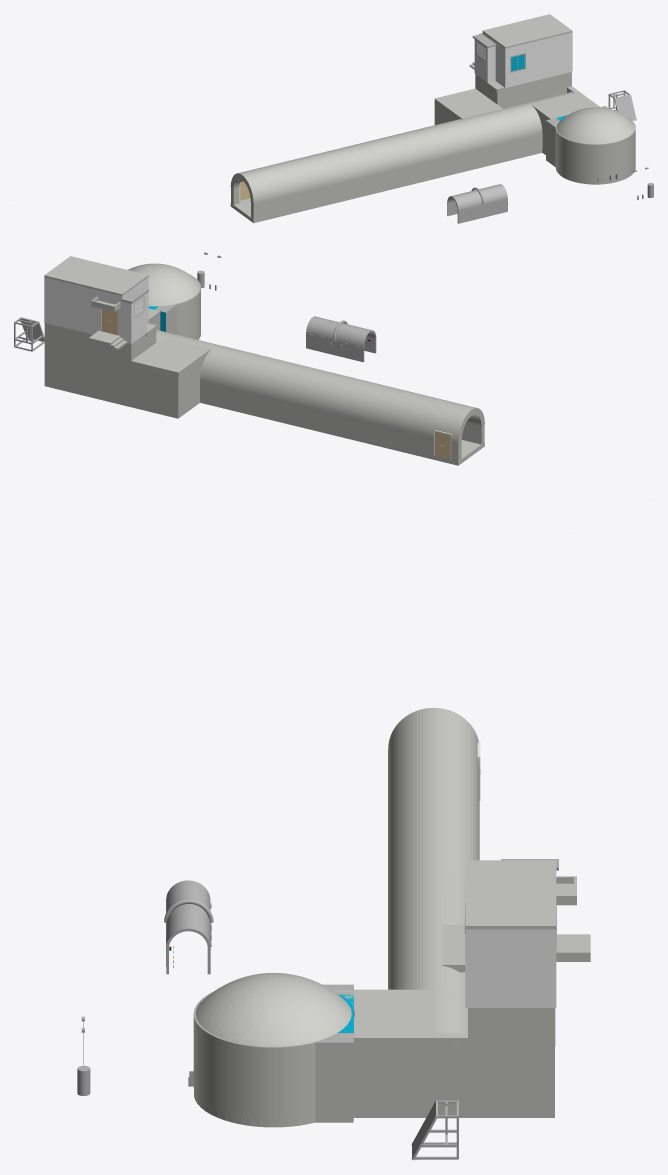
The model's file is DXGC042501gltf.gltf.
3 renders of one model, top to bottom at view 1: azimuth 30°, elevation 25°; view 2: azimuth 150°, elevation 25°; view 3: azimuth 270°, elevation 25°, orthographic. The views are drawn at different scales.
Parts seen in each view (by area): view 1: 地下室外墙-500 (×4), 硐室外墙-1000 (×2), 地下室入口外墙-300 (×3), 硐室顶板, 地下室-底板, 风道屋顶, 地下工程墙1 (×2), 地下室-顶板, 巷道顶板500, 边坡; view 2: 地下室外墙-500 (×3), 地下室外墙-300 (×5), 地下室入口外墙-300 (×2), 地下室-底板, 风道屋顶, 地下工程墙1 (×2), 硐室顶板, 地下室-顶板, 硐室外墙-1000 (×2), M1521 (×2), 边坡, 地下室-入口台阶; view 3: 地下室外墙-500 (×3), 硐室外墙-1000 (×2), 硐室顶板, 地下室入口外墙-300, 巷道顶板500 (×2), 风道屋顶, 地下室-底板, 地下工程墙1, 边坡, 地下室-顶板, 地下室-入口台阶.
Part boxes in pixels (x1,y1,x2,y2): 地下室外墙-500 (×4): [230, 73, 566, 219]; 硐室外墙-1000 (×2): [546, 117, 635, 180]; 地下室入口外墙-300 (×3): [482, 32, 569, 87]; 硐室顶板: [556, 107, 634, 144]; 地下室-底板: [230, 149, 635, 223]; 风道屋顶: [482, 14, 572, 48]; 地下工程墙1 (×2): [447, 184, 507, 223]; 地下室-顶板: [434, 88, 503, 119]; 巷道顶板500: [531, 92, 600, 122]; 边坡: [608, 90, 636, 120]; 地下室外墙-500 (×3): [156, 330, 484, 461]; 地下室外墙-300 (×5): [50, 324, 205, 414]; 地下室入口外墙-300 (×2): [47, 278, 133, 343]; 地下室-底板: [44, 331, 484, 465]; 风道屋顶: [44, 256, 148, 295]; 地下工程墙1 (×2): [306, 316, 376, 362]; 硐室顶板: [128, 263, 199, 306]; 地下室-顶板: [131, 337, 210, 376]; 硐室外墙-1000 (×2): [154, 274, 200, 338]; M1521 (×2): [100, 309, 451, 459]; 边坡: [14, 317, 44, 351]; 地下室-入口台阶: [88, 331, 120, 348]; 地下室外墙-500 (×3): [354, 707, 554, 1110]; 硐室外墙-1000 (×2): [193, 991, 353, 1120]; 硐室顶板: [195, 973, 351, 1047]; 地下室入口外墙-300: [465, 929, 556, 1007]; 巷道顶板500 (×2): [333, 989, 479, 1079]; 风道屋顶: [465, 860, 556, 929]; 地下室-底板: [194, 1090, 554, 1127]; 地下工程墙1: [166, 880, 210, 948]; 边坡: [411, 1100, 458, 1160]; 地下室-顶板: [442, 925, 465, 972]; 地下室-入口台阶: [556, 934, 590, 961].
Bounding box in the file's own units: 193 × 30.35 × 73.6.
